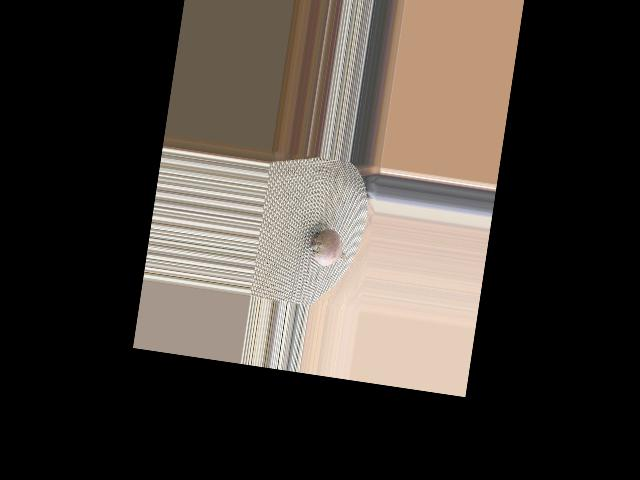beet: (304, 221, 356, 275)
